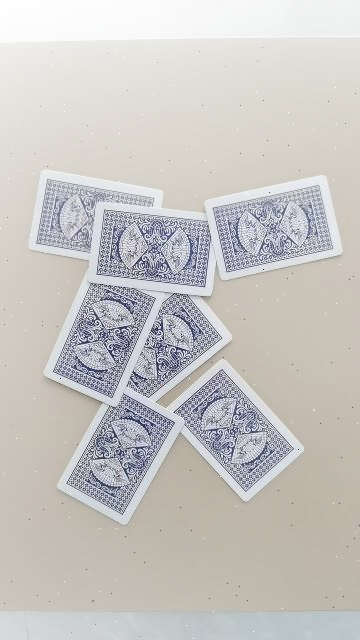card: (168, 360, 304, 501), (57, 389, 184, 525), (44, 278, 166, 406), (205, 175, 342, 280), (29, 170, 164, 260), (88, 202, 215, 296), (129, 294, 232, 401)
